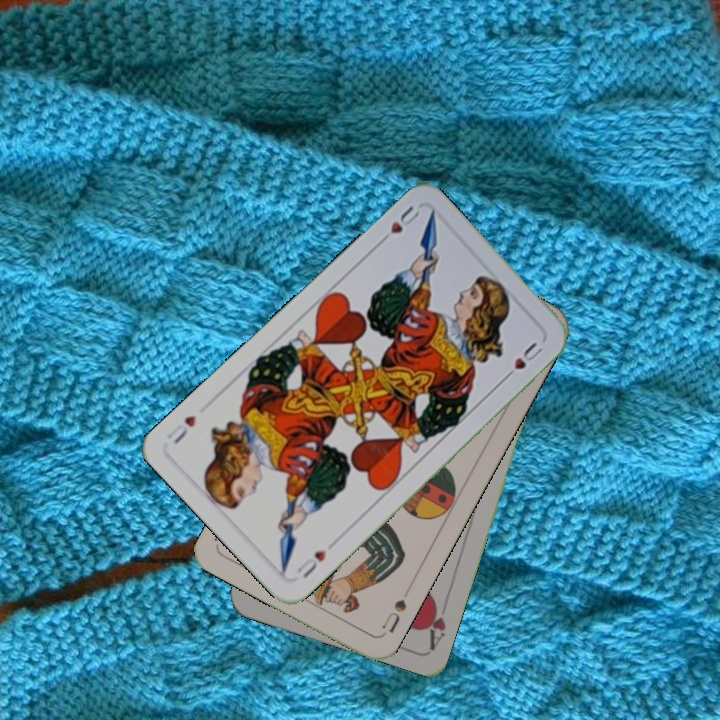HA: (421, 593, 452, 652)
HU: (374, 201, 423, 248), (292, 546, 329, 581)
SU: (377, 595, 410, 638)
